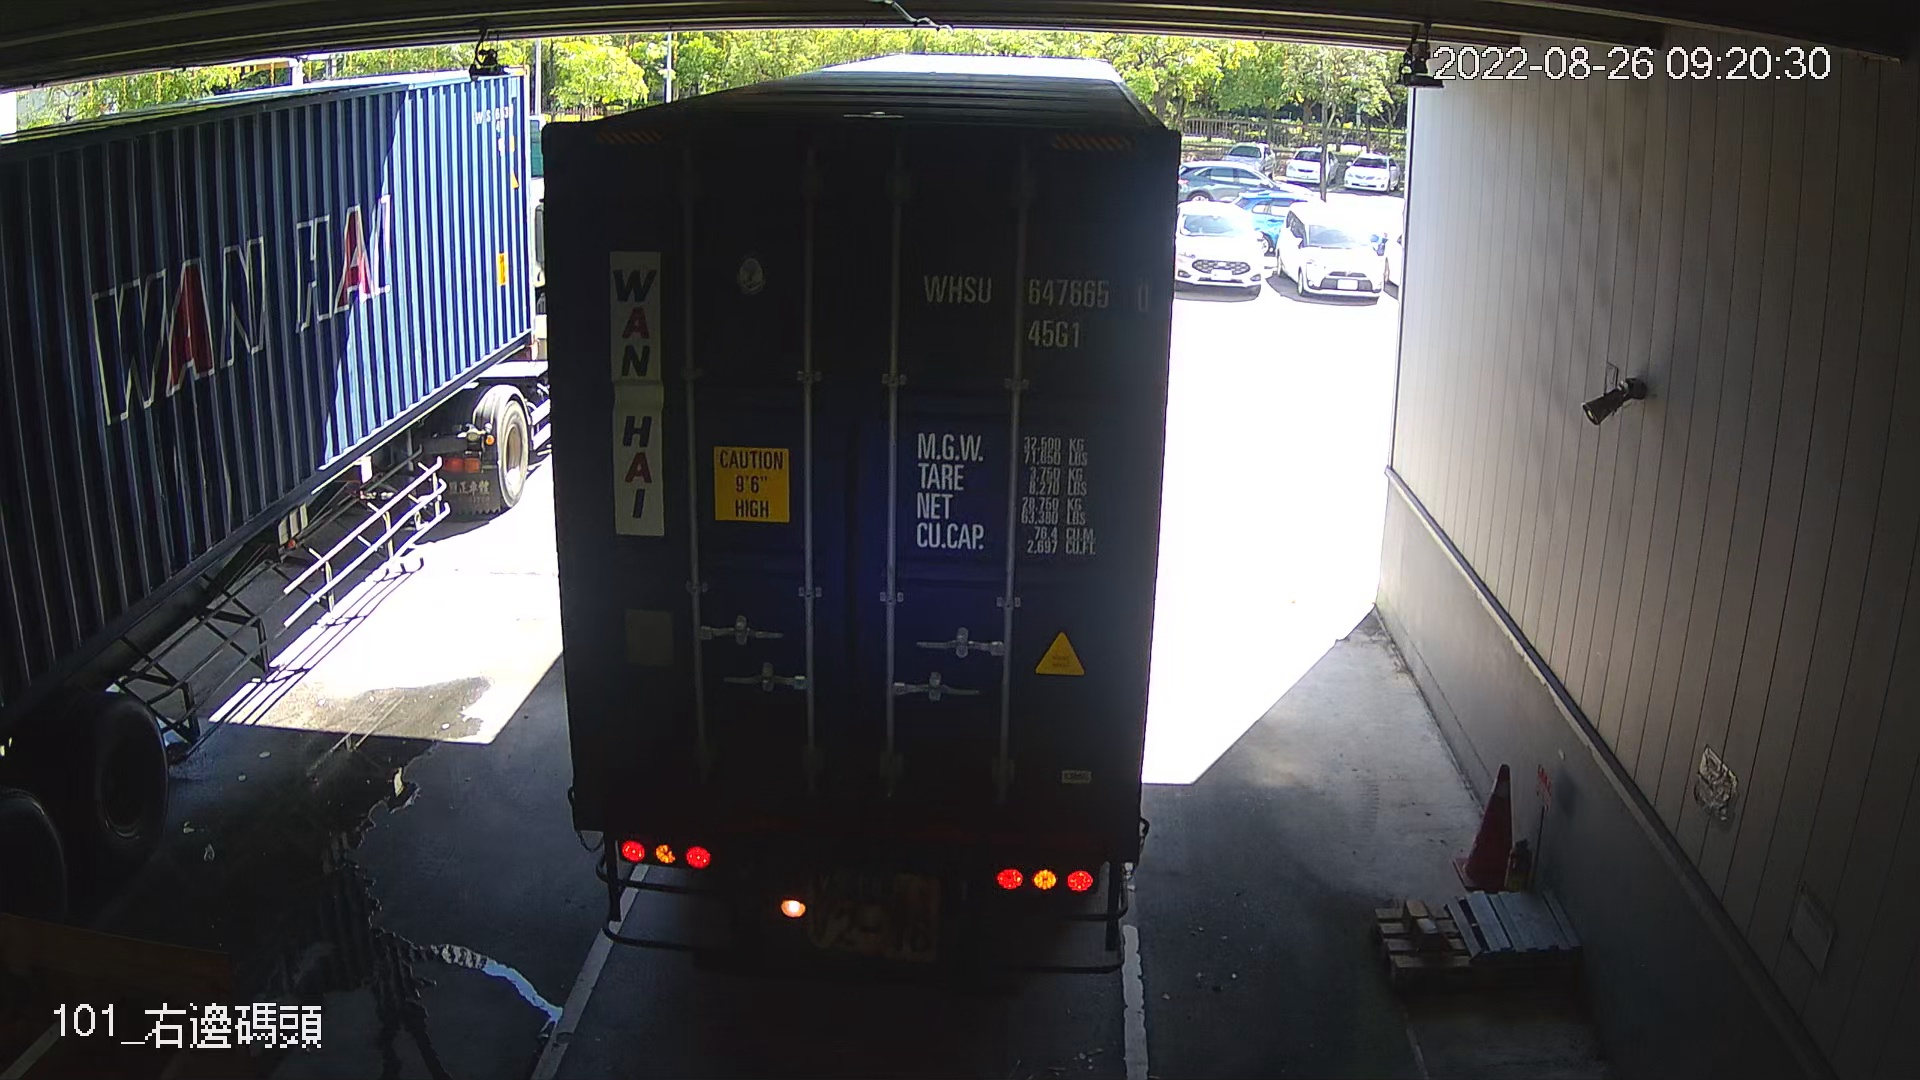container: (913, 258, 1162, 357)
